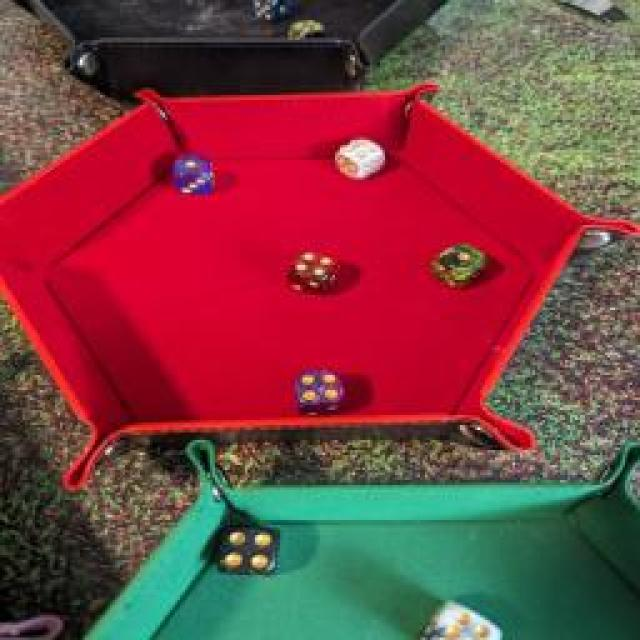dice_1: (429, 239, 491, 289), (170, 146, 220, 196)
dice_4: (216, 519, 279, 576), (288, 365, 354, 417), (283, 247, 345, 295), (332, 134, 388, 178), (285, 16, 327, 44)
dice_6: (422, 597, 519, 640)
